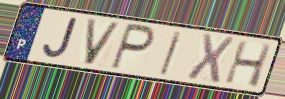H: (222, 39, 274, 89)
I: (158, 29, 185, 77)
J: (41, 17, 80, 61)
P: (108, 21, 157, 73)
V: (83, 17, 124, 67)
X: (184, 31, 236, 85)
